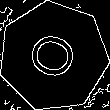O_E: (22, 27, 85, 86)
